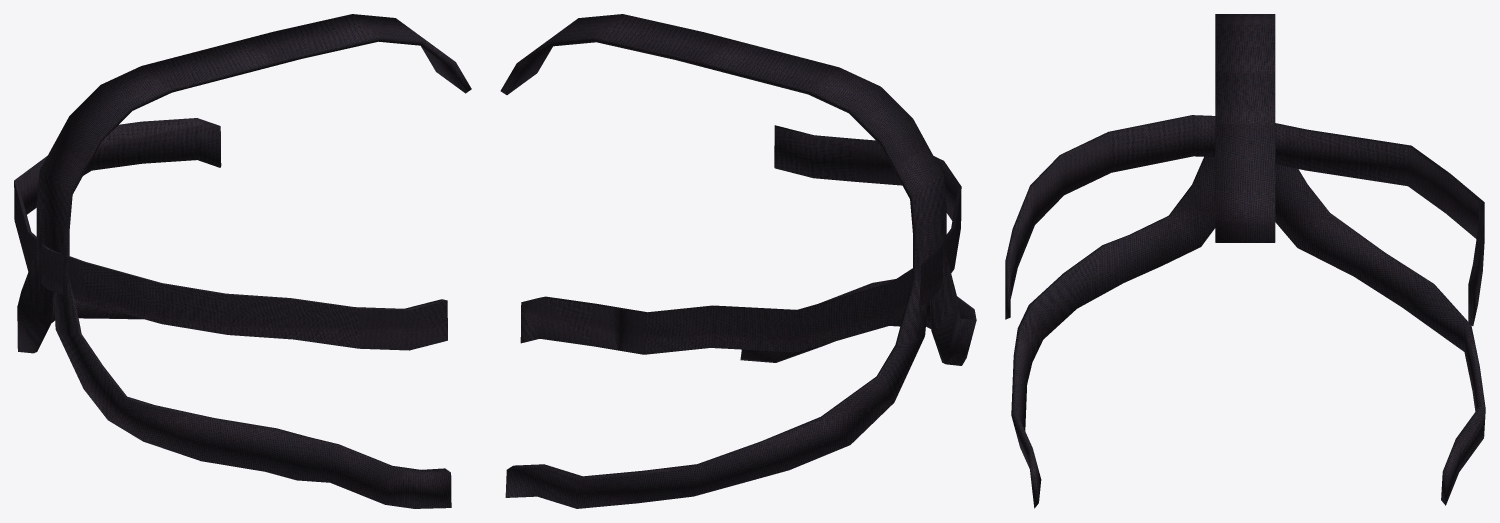
File: Gask Mask Straps.obj
3 views of the same model, side by side, from view 1: azimuth 30°, elevation 25°; view 2: azimuth 150°, elevation 25°; view 3: azimuth 270°, elevation 25° (orthographic). The views are drawn at different scales.
Visible parts, largest first — view 1: Main_Strap_Cube.003; view 2: Main_Strap_Cube.003; view 3: Main_Strap_Cube.003.
Boxes of the visible parts, x1,y1,x2,y2 form: Main_Strap_Cube.003: [14, 14, 471, 508]; Main_Strap_Cube.003: [500, 14, 976, 508]; Main_Strap_Cube.003: [1005, 14, 1485, 508].
Size of the model in its own units: 5.1 by 4.78 by 5.26.
